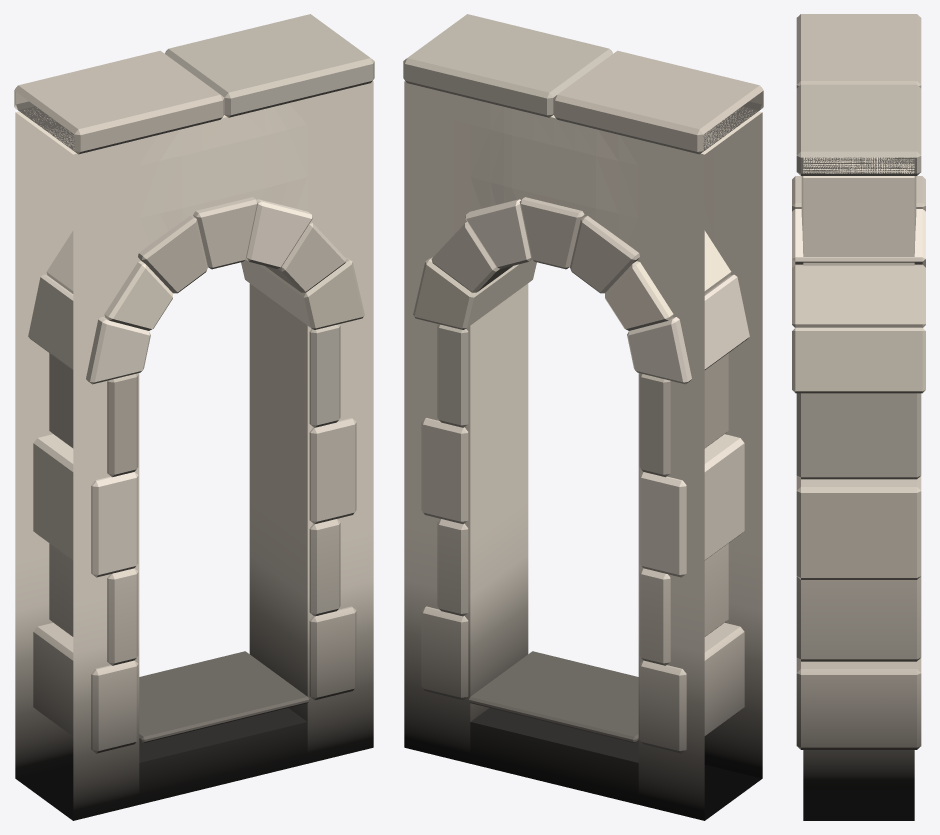
File: SM_VKI_Wall_Stone_Door_150_Full.fbx
3 renders of one model, left to right at view 1: azimuth 30°, elevation 25°; view 2: azimuth 150°, elevation 25°; view 3: azimuth 270°, elevation 25°, orthographic. The views are drawn at different scales.
Parts seen in each view (by area): view 1: SM_VKI_Wall_Stone_Door_150_Full.001; view 2: SM_VKI_Wall_Stone_Door_150_Full.001; view 3: SM_VKI_Wall_Stone_Door_150_Full.001.
Boxes of the visible parts, x1,y1,x2,y2 form: SM_VKI_Wall_Stone_Door_150_Full.001: [14, 14, 374, 820]; SM_VKI_Wall_Stone_Door_150_Full.001: [403, 14, 763, 820]; SM_VKI_Wall_Stone_Door_150_Full.001: [792, 14, 925, 820].
Size of the model in its own units: 1.5 by 3.3 by 0.6.
